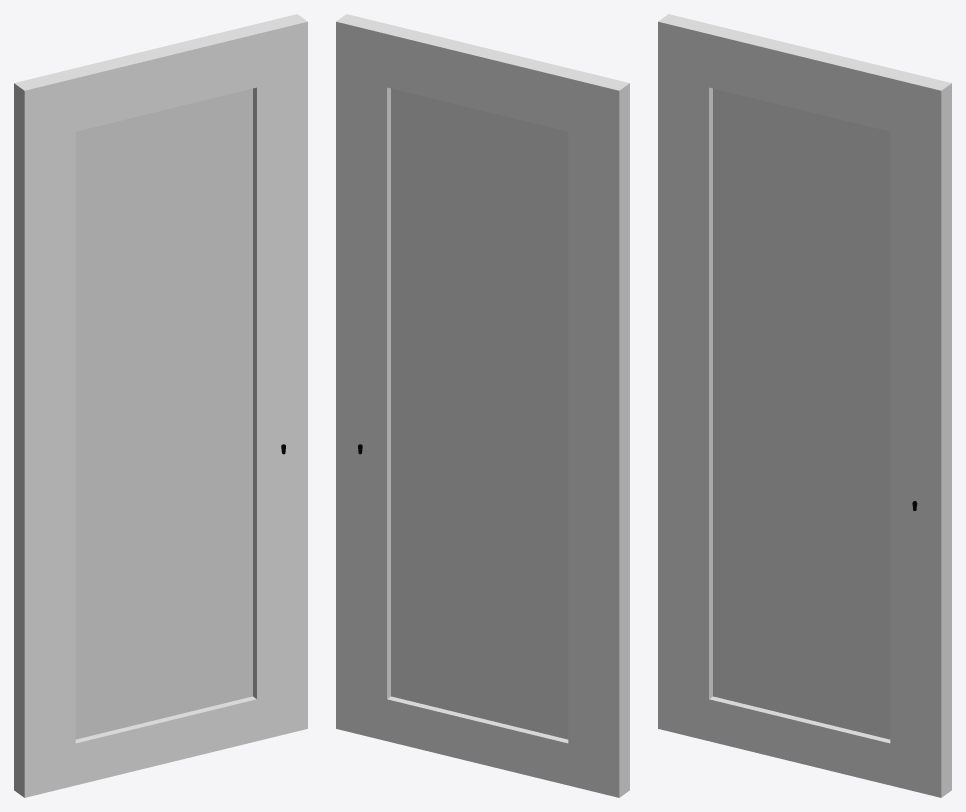
File: Door04_WGlass.fbx
3 renders of one model, left to right at view 1: azimuth 30°, elevation 25°; view 2: azimuth 150°, elevation 25°; view 3: azimuth 330°, elevation 25°, orthographic.
Visible parts, largest first — view 1: Door04_WGlass; view 2: Door04_WGlass; view 3: Door04_WGlass.
Boxes of the visible parts, x1,y1,x2,y2 form: Door04_WGlass: (14, 14, 307, 797); Door04_WGlass: (336, 14, 629, 797); Door04_WGlass: (658, 14, 951, 797).
Size of the model in its own units: 78 by 186 by 6.71.
